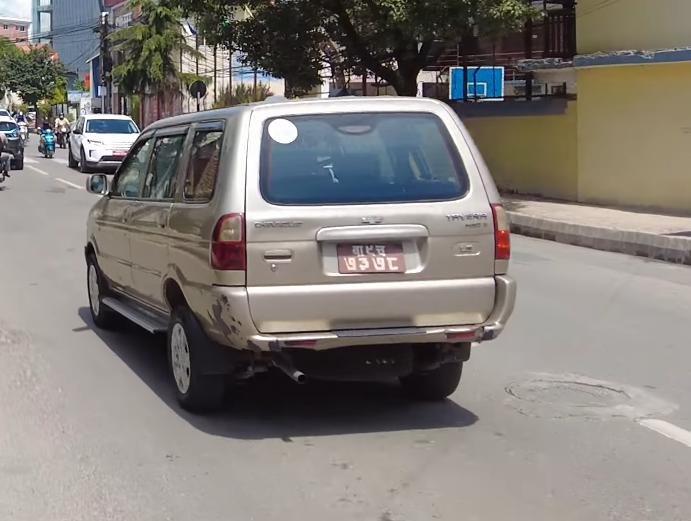SUV: (66, 92, 516, 425)
car: (63, 111, 145, 168)
scooter: (37, 125, 59, 158)
